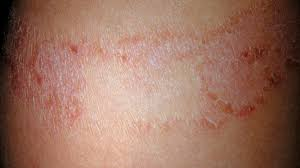herpes: (29, 22, 272, 131)
